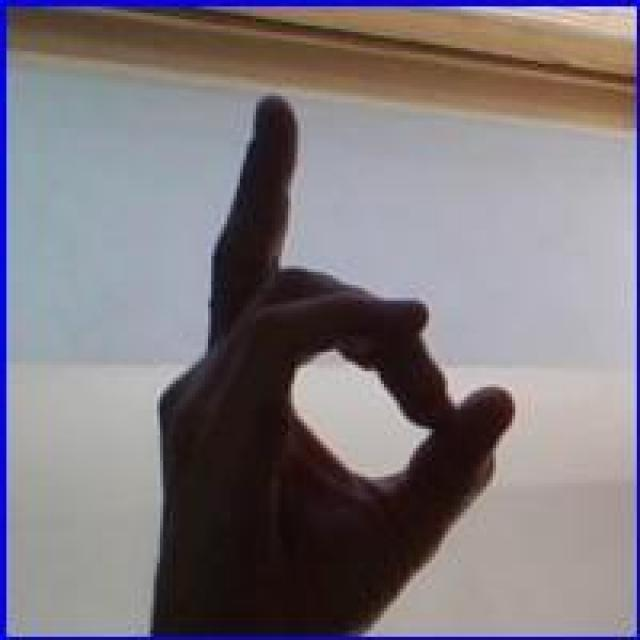D: (154, 91, 515, 635)
